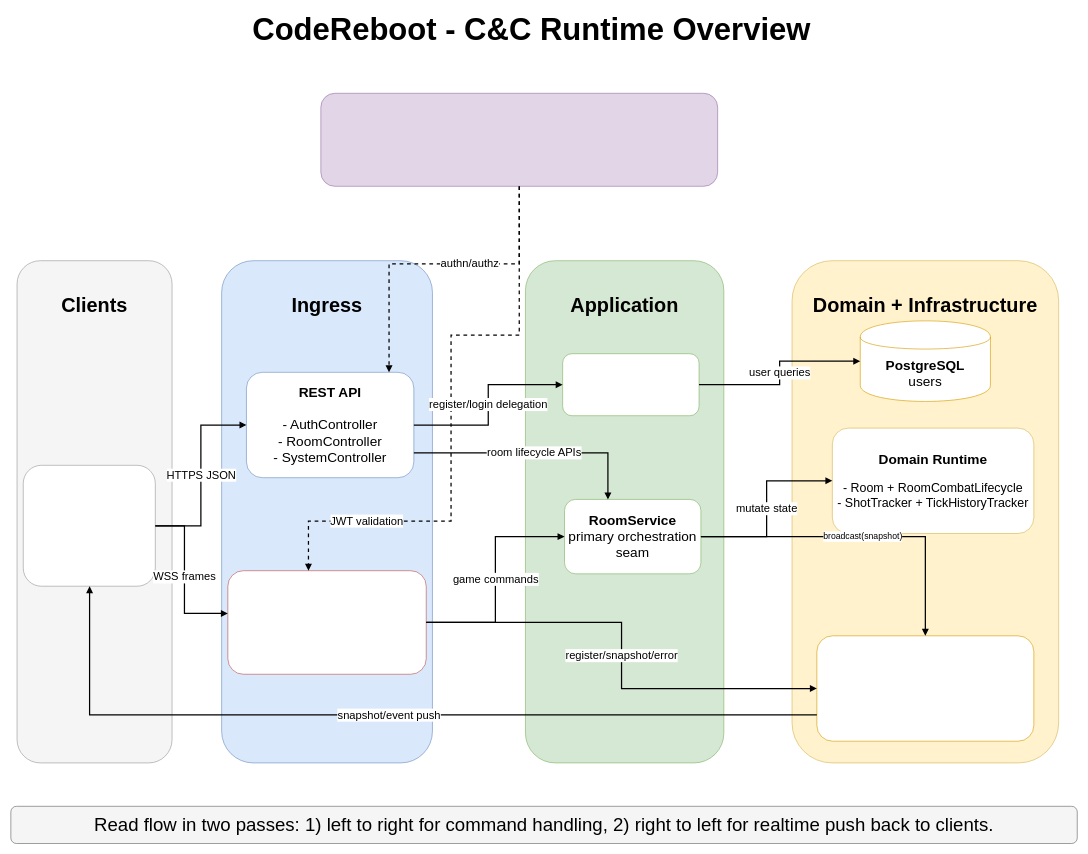
Image size: 1088x854. Some labels were removed from this diagram. The centre of each missing label's shape, as x and y in pixels:
"AuthService" belongs at (630,384).
"Browser Clients Player A Player B" belongs at (89,525).
"Security Pipeline - RequestIdFilter - JwtAuthenticationFilter - JwtTokenService" belongs at (519,139).
"WebSocket Ingress - GameSocketHandler - GameSocketCommandDispatcher" belongs at (326,622).
"WebSocketRoomBroadcaster RoomEventBroadcaster + RoomSessionGateway" belongs at (925,688).
